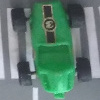carro: (15, 2, 89, 98)
